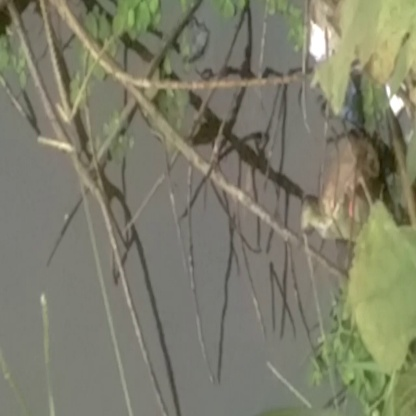branch: (59, 6, 333, 115)
